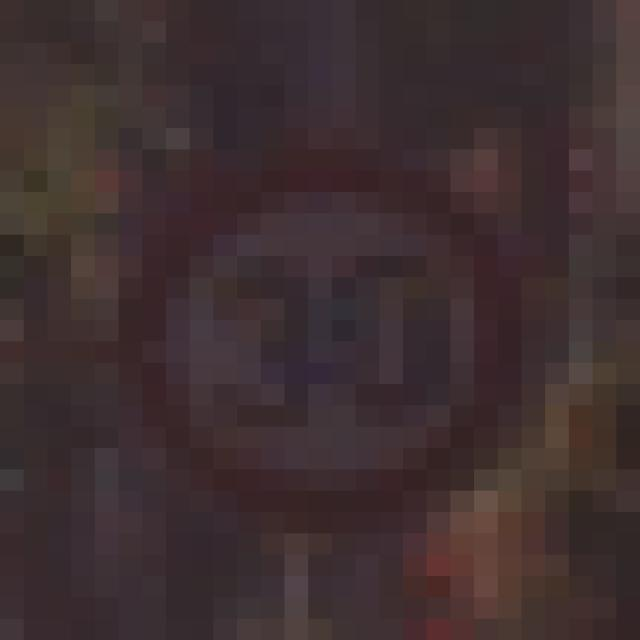Speed Limit -30-: (107, 96, 510, 502)
